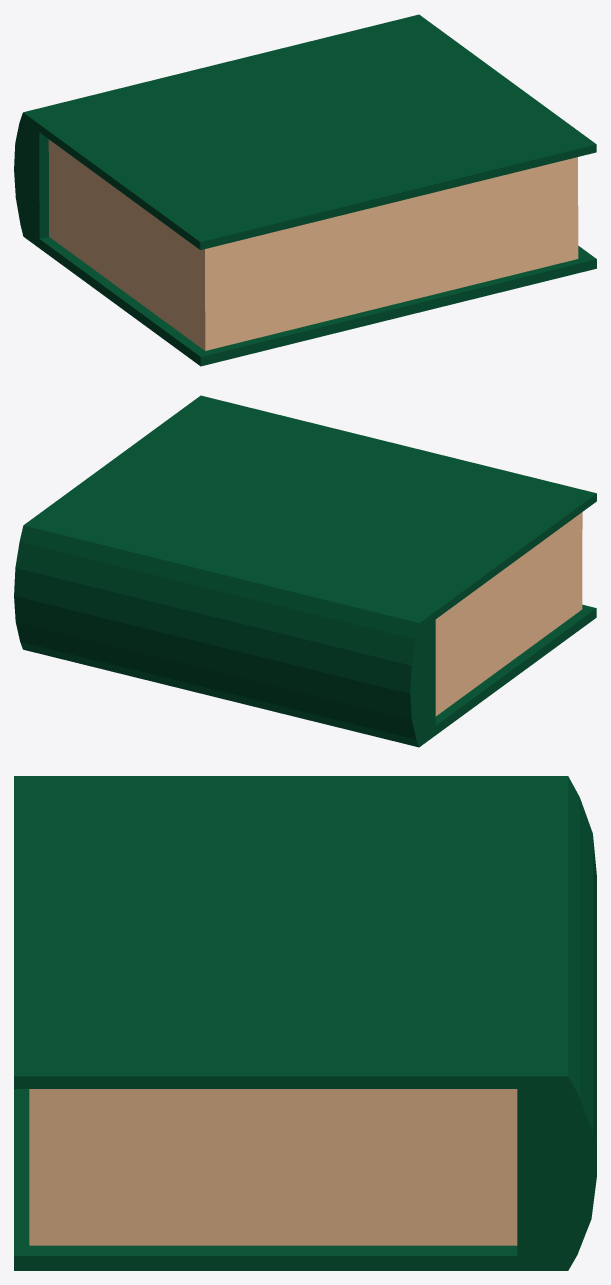
The model's file is Book_Green.fbx.
The picture shows the model from 3 angles, top to bottom: view 1: azimuth 30°, elevation 25°; view 2: azimuth 150°, elevation 25°; view 3: azimuth 270°, elevation 25°; orthographic projection. The views are drawn at different scales.
Parts seen in each view (by area): view 1: Book_3.006; view 2: Book_3.006; view 3: Book_3.006.
Part boxes in pixels (x1,y1,x2,y2): Book_3.006: (14, 14, 596, 366); Book_3.006: (14, 395, 596, 747); Book_3.006: (14, 776, 596, 1270).
Bounding box in the file's own units: 48.04 × 14.54 × 39.16.
